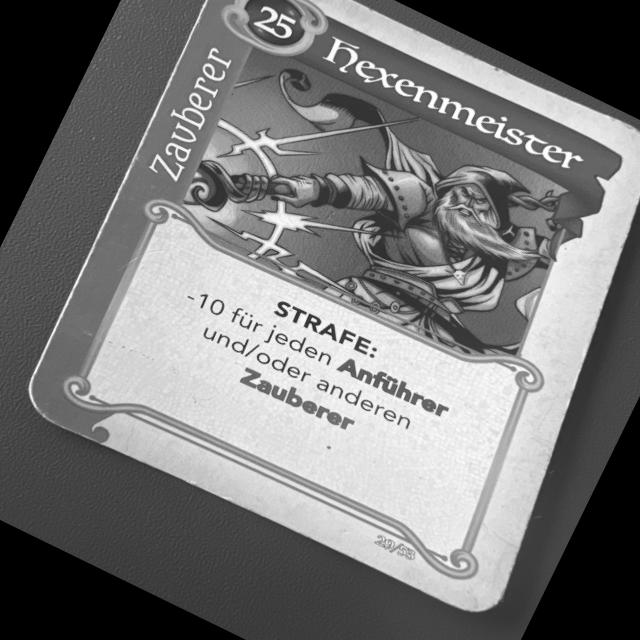Warlock Lord: (5, 0, 640, 632)
